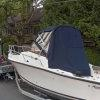Boat: (5, 29, 99, 99)
